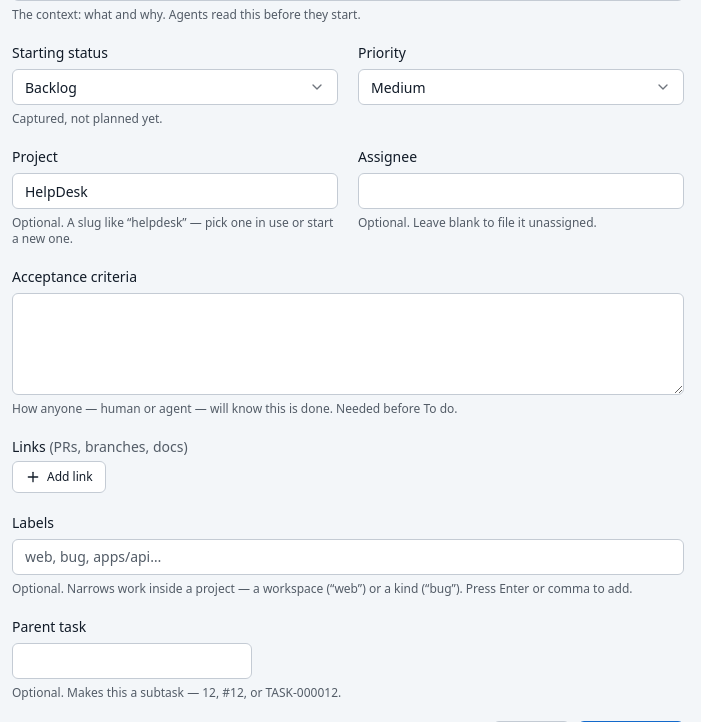
Scenario: TaskForm — labels › rejects a malformed label before it becomes a chip
This screenshot has width=701, height=722.
(page scrolled)
Type "has space" into the field labelled "Labels" at (348, 557), box [25,547,671,567]
Then press Enter
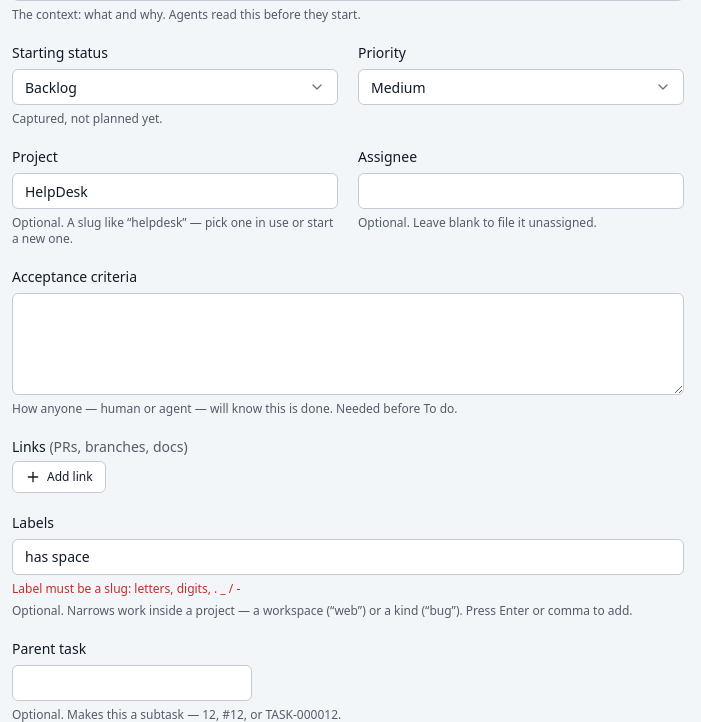
Expected: the text "Label must be a slug: letters, digits, . _ / -" is shown, [12,580,240,597]
